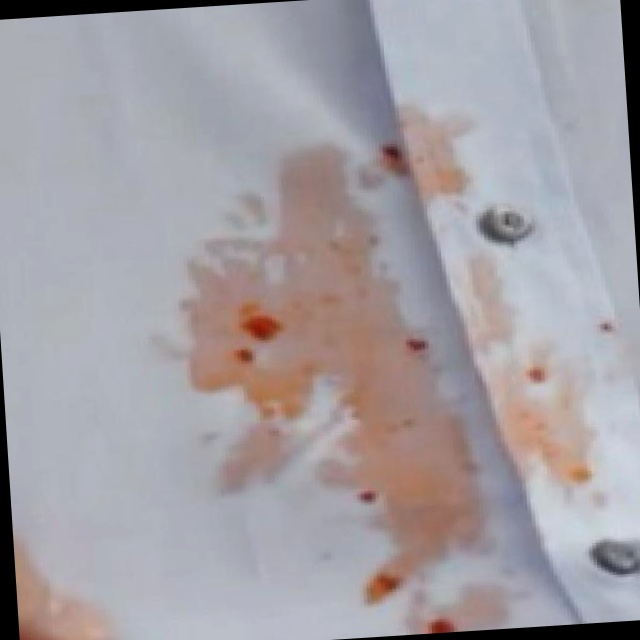kimchi: (130, 91, 640, 640), (15, 528, 128, 640), (216, 295, 299, 400), (352, 118, 448, 194), (381, 315, 453, 384), (341, 474, 417, 534), (517, 347, 565, 405), (412, 604, 481, 635), (558, 448, 603, 492), (368, 562, 408, 599), (594, 313, 630, 351)
